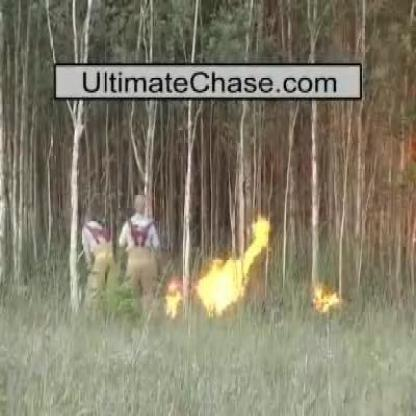foggia-v2-map80-epoch100 - v1 4323: (196, 218, 272, 316), (314, 286, 338, 314)
